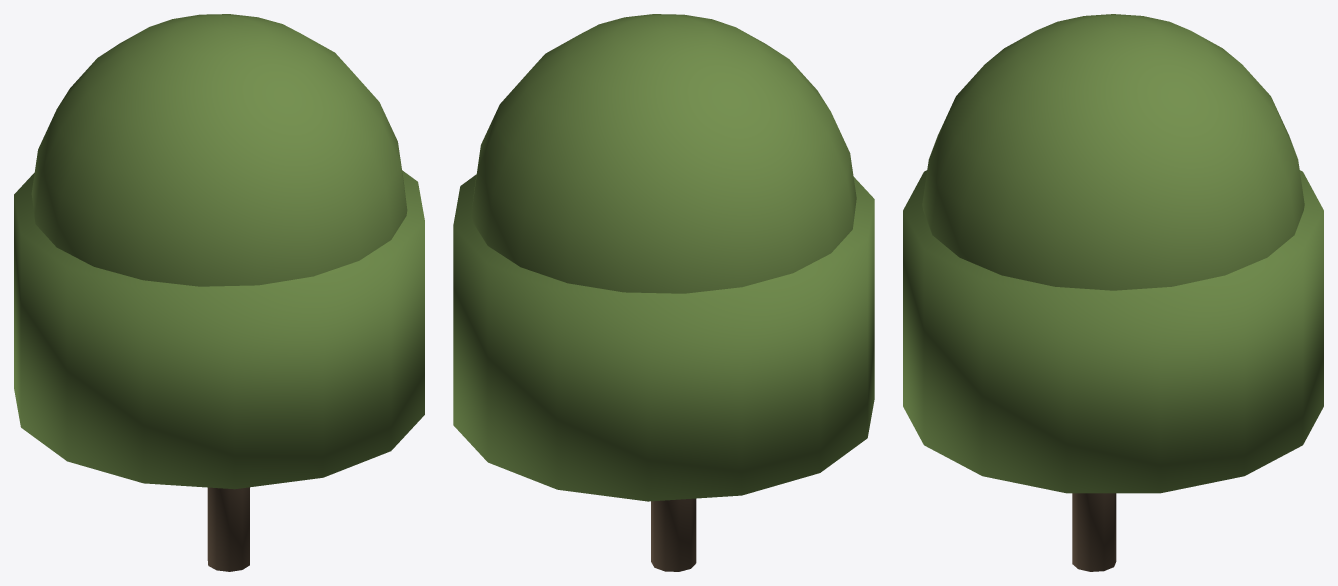
Rendered from Tree_willow.fbx.
3 views of the same model, side by side, from view 1: azimuth 30°, elevation 25°; view 2: azimuth 150°, elevation 25°; view 3: azimuth 270°, elevation 25° (orthographic). The views are drawn at different scales.
Parts seen in each view (by area): view 1: Drape, Crown1, Trunk; view 2: Drape, Crown1, Trunk; view 3: Drape, Crown1, Trunk.
Boxes of the visible parts, x1,y1,x2,y2 form: Drape: (14,170,424,489); Crown1: (31,14,407,286); Trunk: (207,487,249,571); Drape: (453,174,874,501); Crown1: (471,14,856,293); Trunk: (651,498,696,571); Drape: (903,170,1323,493); Crown1: (922,14,1304,290); Trunk: (1072,493,1116,571).
Size of the model in its own units: 643 by 660 by 920.
